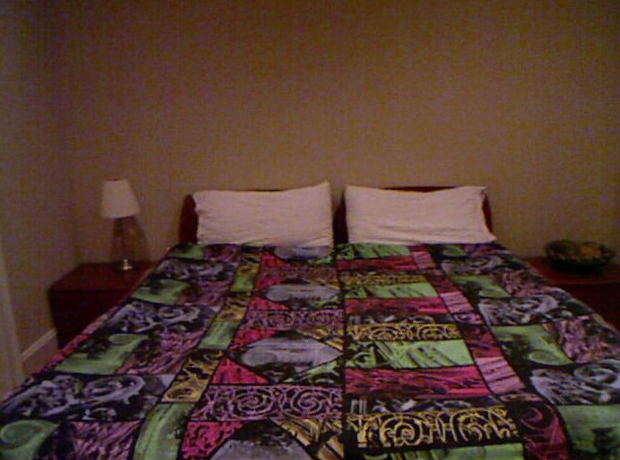cabinet: (44, 258, 137, 331), (551, 250, 620, 315)
